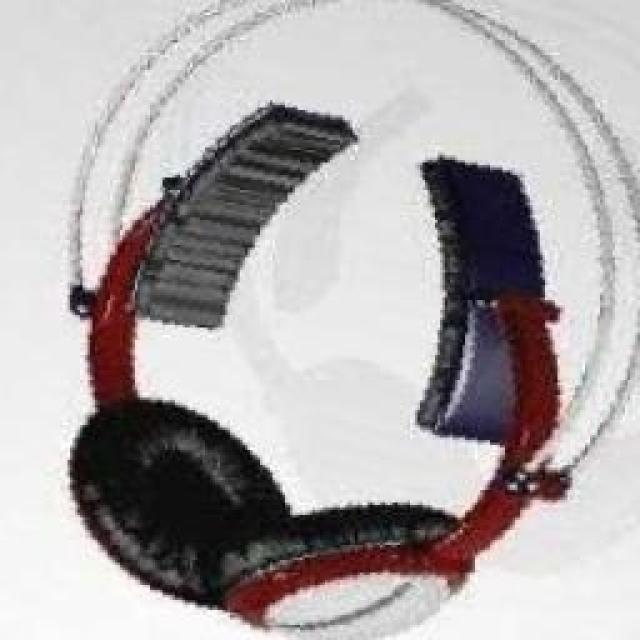kulaklik: (60, 0, 638, 640)
